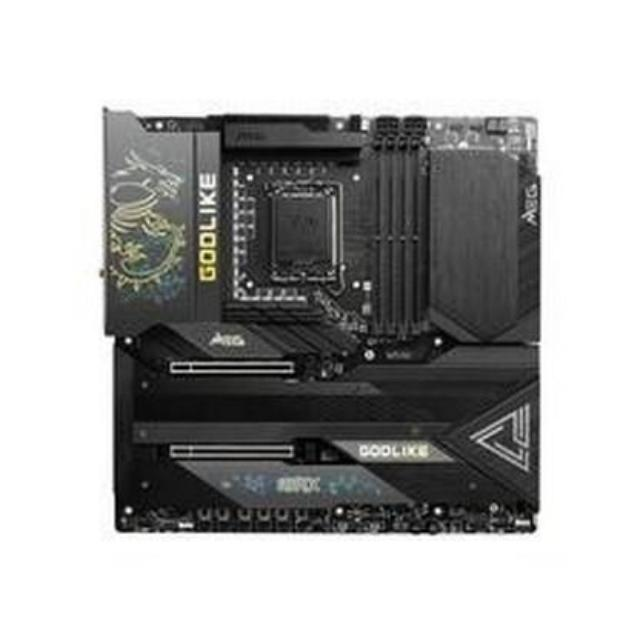Mainboard: (96, 95, 546, 556)
